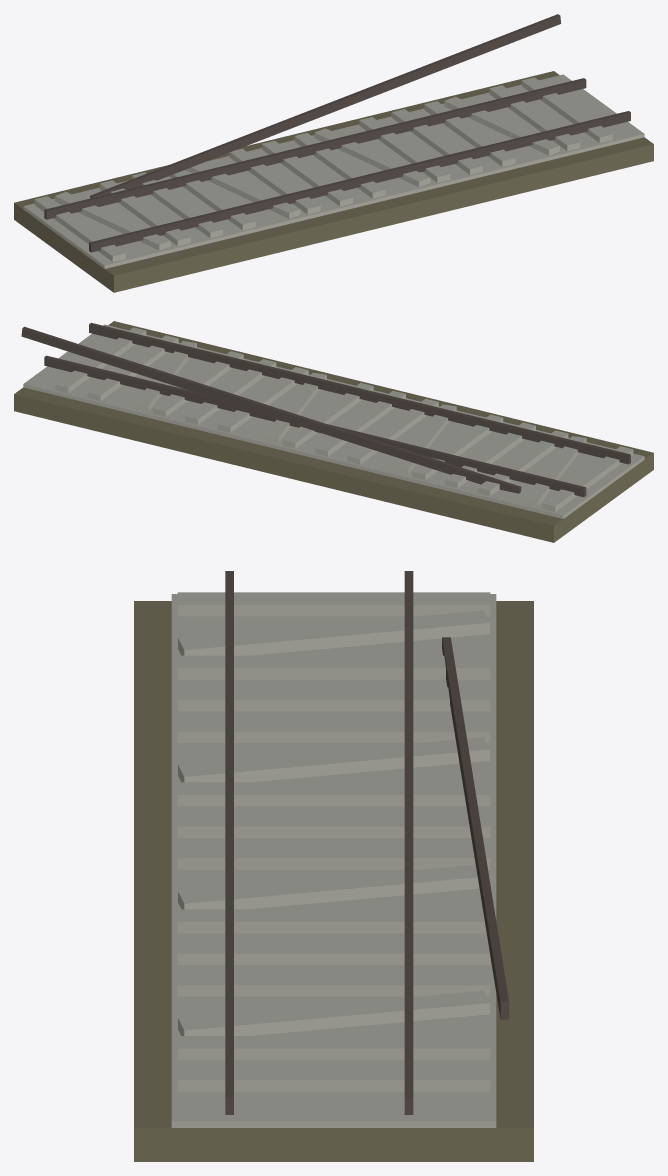
Rendered from SM_KitVia_v3_LOD0.fbx.
3 renders of one model, top to bottom at view 1: azimuth 30°, elevation 25°; view 2: azimuth 150°, elevation 25°; view 3: azimuth 270°, elevation 25°, orthographic. The views are drawn at different scales.
Parts seen in each view (by area): view 1: SM_kit_via_v3_LOD0; view 2: SM_kit_via_v3_LOD0; view 3: SM_kit_via_v3_LOD0.
Part boxes in pixels (left/top/right/bottom): SM_kit_via_v3_LOD0: left=14, top=14, right=653, bottom=292; SM_kit_via_v3_LOD0: left=14, top=321, right=653, bottom=542; SM_kit_via_v3_LOD0: left=134, top=571, right=533, bottom=1161.
Bounding box in the file's own units: 9.98 × 1.39 × 3.2.
